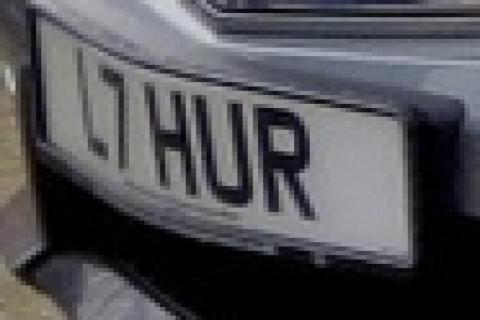LicensePlate: (24, 8, 426, 265)
